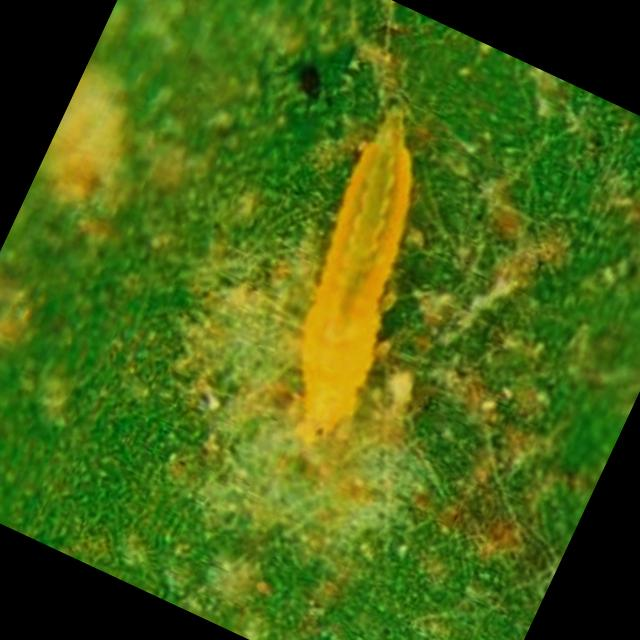melon thrips: (134, 6, 603, 550)
